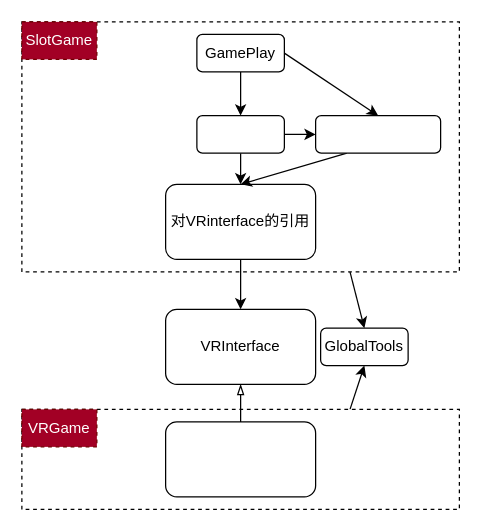
The diagram is 481 pixels wide and 531 high, and some of its shapes have lost their labels. Here are the shapes that lost their labels. From the top down, the centre of each, then its label:
(x=240, y=133): Framework
(x=377, y=133): GlobalInterface
(x=240, y=459): 对VRinterface的实现
